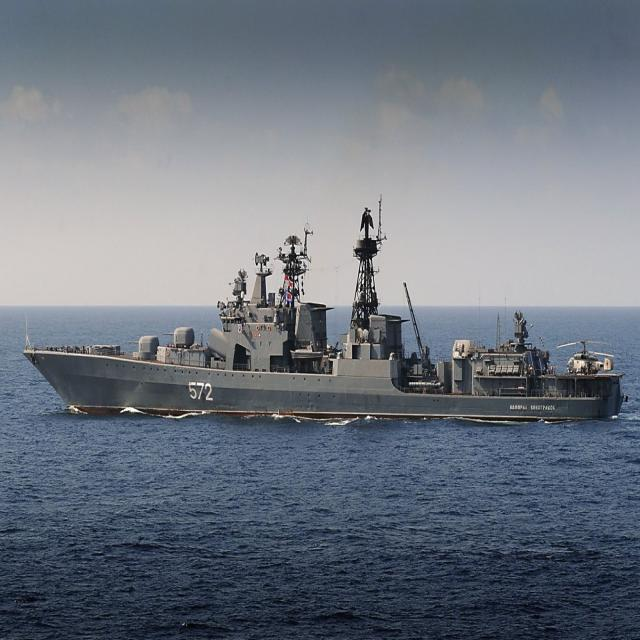navalvessels: (11, 211, 626, 432)
